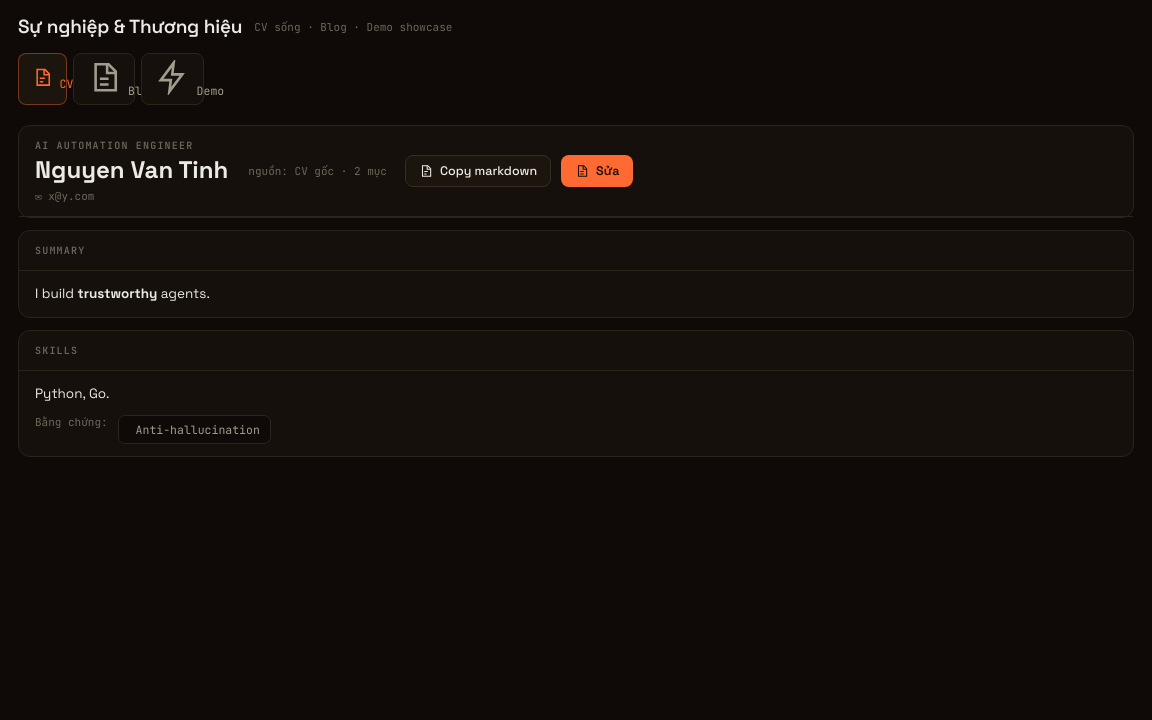
Test case: CAR-1 Career — CV tab › CV edit save fail surfaces error + keeps editor open (fail-closed)
Click the button with test id "cv-edit": [597, 170] box top-left (561, 154), bottom-right (633, 186)
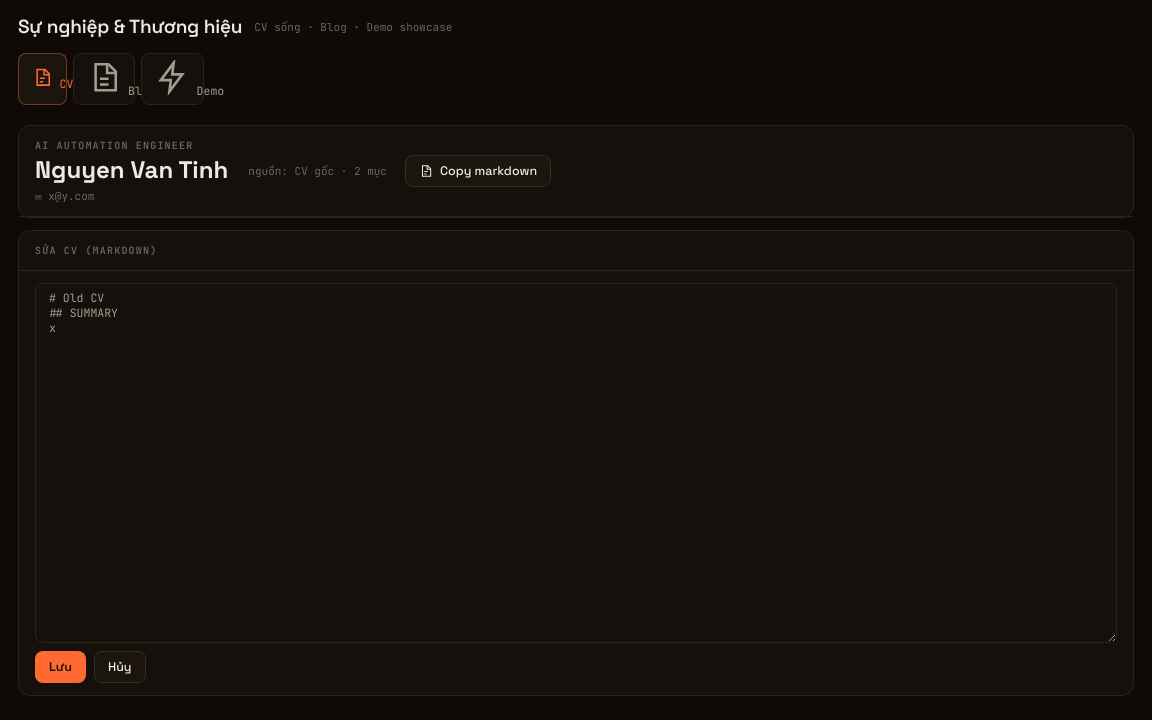
Now the element with test id "cv-editor" is shown
Click the button with test id "cv-save": [60, 666] box top-left (35, 650), bottom-right (86, 682)
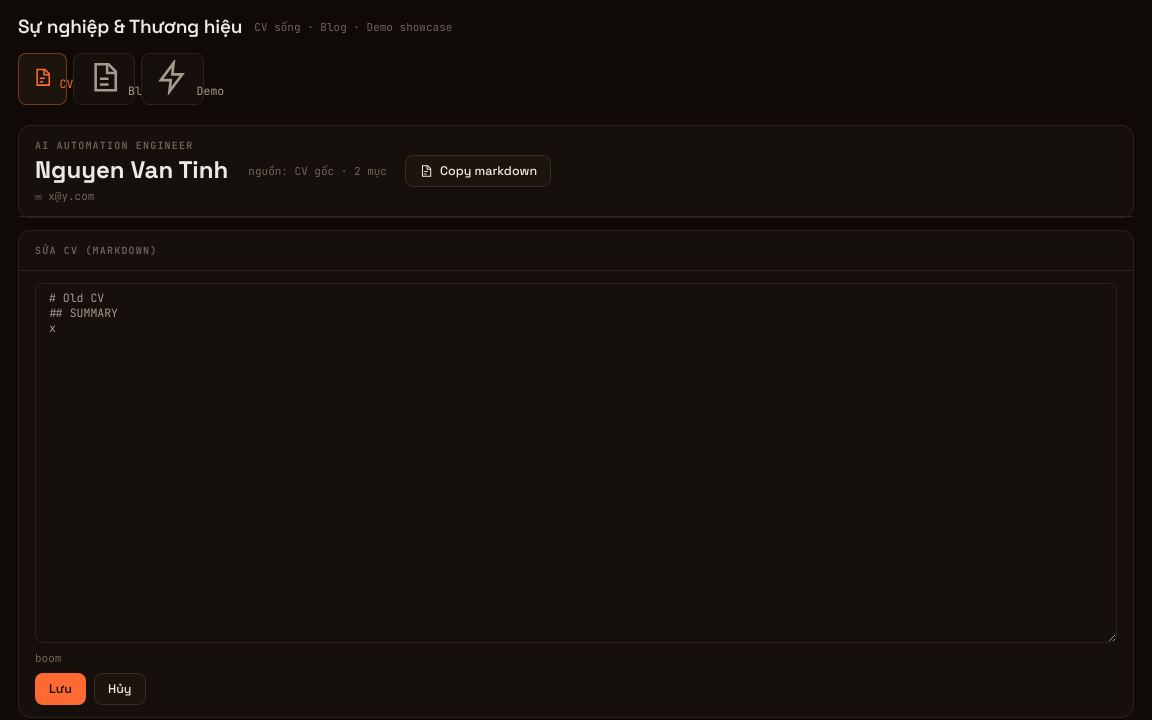
Now the element with test id "cv-editor" is shown
Now the text "boom" is shown, box top-left (35, 650), bottom-right (61, 664)
